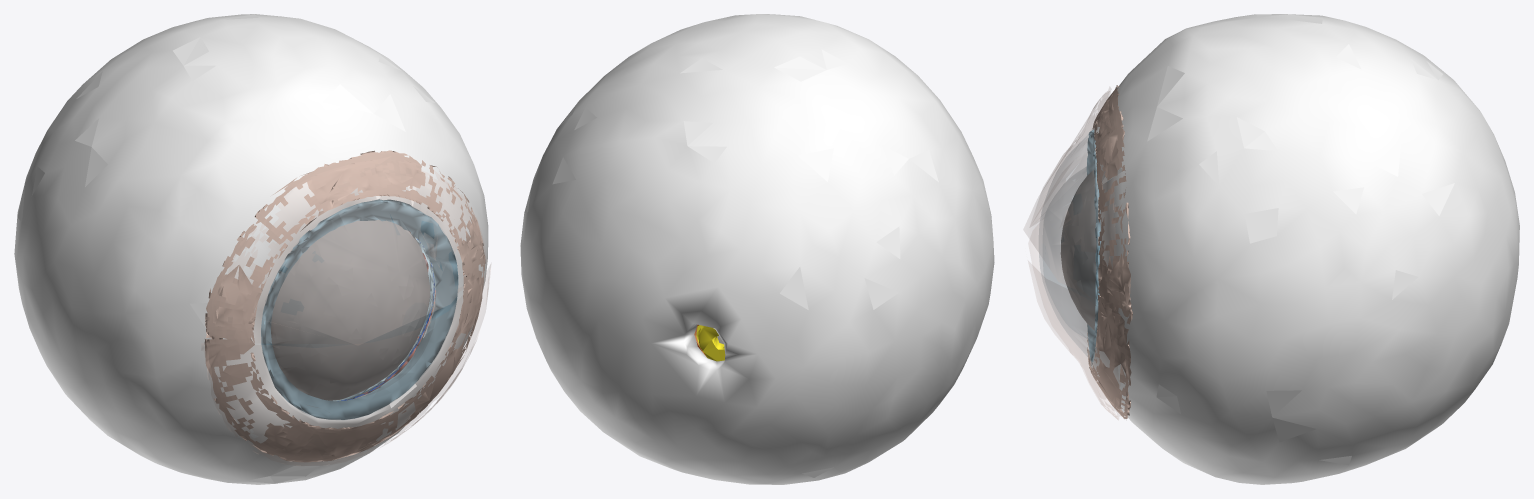
Rendered from 3d-vh-m-eye-l.glb.
3 views of the same model, side by side, from view 1: azimuth 30°, elevation 25°; view 2: azimuth 150°, elevation 25°; view 3: azimuth 270°, elevation 25° (orthographic).
Parts seen in each view (by area): view 1: VH_M_sclera_L, VH_M_cornea_L, VH_M_palpebral_conjunctiva_of_upper_eyelid_L, VH_M_palpebral_conjunctiva_of_lower_eyelid_L, VH_M_bulbar_conjunctiva_L, VH_M_aqueous_humor_L, VH_M_corneo_scleral_junction_L, VH_M_trabecular_meshwork_L; view 2: VH_M_sclera_L, VH_M_optic_disc_L; view 3: VH_M_sclera_L, VH_M_cornea_L, VH_M_palpebral_conjunctiva_of_upper_eyelid_L, VH_M_bulbar_conjunctiva_L, VH_M_palpebral_conjunctiva_of_lower_eyelid_L, VH_M_aqueous_humor_L, VH_M_corneo_scleral_junction_L.
Part boxes in pixels (bbox=[...]): VH_M_sclera_L: bbox=[14, 14, 488, 484]; VH_M_cornea_L: bbox=[262, 201, 458, 419]; VH_M_palpebral_conjunctiva_of_upper_eyelid_L: bbox=[209, 157, 486, 344]; VH_M_palpebral_conjunctiva_of_lower_eyelid_L: bbox=[202, 264, 490, 465]; VH_M_bulbar_conjunctiva_L: bbox=[204, 150, 485, 462]; VH_M_aqueous_humor_L: bbox=[271, 219, 430, 400]; VH_M_corneo_scleral_junction_L: bbox=[261, 199, 458, 419]; VH_M_trabecular_meshwork_L: bbox=[330, 237, 435, 401]; VH_M_sclera_L: bbox=[520, 14, 994, 484]; VH_M_optic_disc_L: bbox=[698, 326, 725, 361]; VH_M_sclera_L: bbox=[1090, 14, 1519, 484]; VH_M_cornea_L: bbox=[1039, 133, 1098, 361]; VH_M_palpebral_conjunctiva_of_upper_eyelid_L: bbox=[1023, 87, 1120, 311]; VH_M_bulbar_conjunctiva_L: bbox=[1087, 85, 1132, 419]; VH_M_palpebral_conjunctiva_of_lower_eyelid_L: bbox=[1028, 225, 1120, 419]; VH_M_aqueous_humor_L: bbox=[1060, 169, 1096, 330]; VH_M_corneo_scleral_junction_L: bbox=[1087, 130, 1100, 362].
Bounding box in the file's own units: 0.0245 × 0.0244 × 0.0258.
